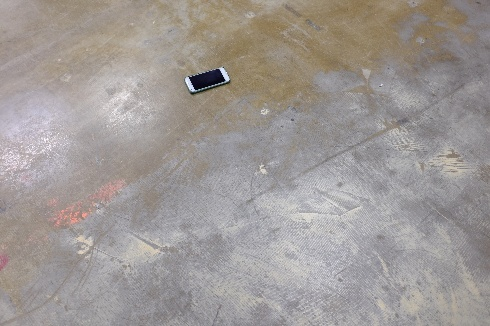phone: (182, 64, 231, 96)
